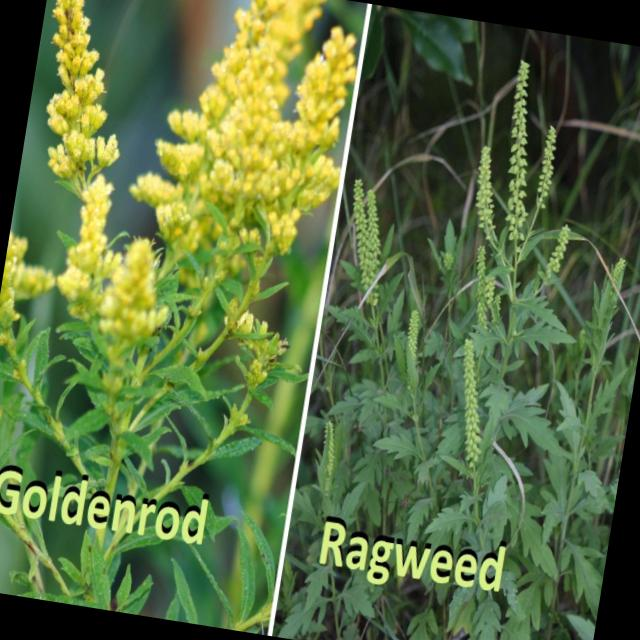ambrosia: (350, 50, 620, 492)
